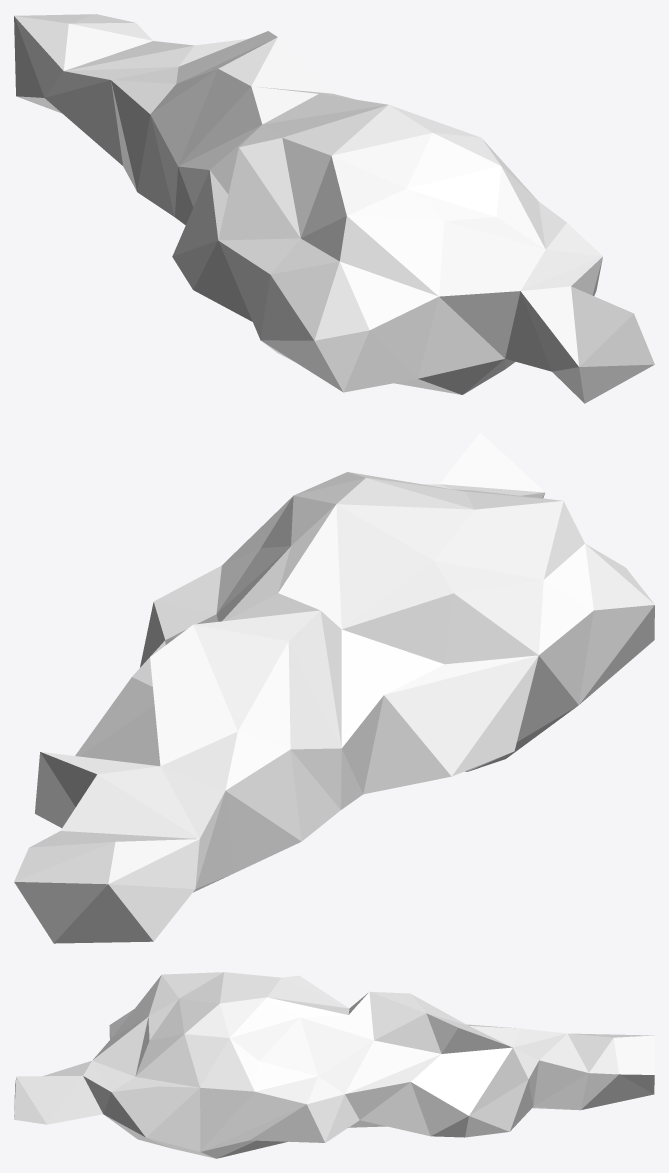
The model's file is RG_Cloud-01.fbx.
3 renders of one model, top to bottom at view 1: azimuth 30°, elevation 25°; view 2: azimuth 150°, elevation 25°; view 3: azimuth 270°, elevation 25°, orthographic. The views are drawn at different scales.
Parts seen in each view (by area): view 1: RG_Cloud-01; view 2: RG_Cloud-01; view 3: RG_Cloud-01.
Boxes of the visible parts, x1,y1,x2,y2 form: RG_Cloud-01: (14, 14, 654, 403); RG_Cloud-01: (14, 432, 654, 943); RG_Cloud-01: (14, 972, 654, 1158).
Bounding box in the file's own units: 147 × 95.91 × 394.
